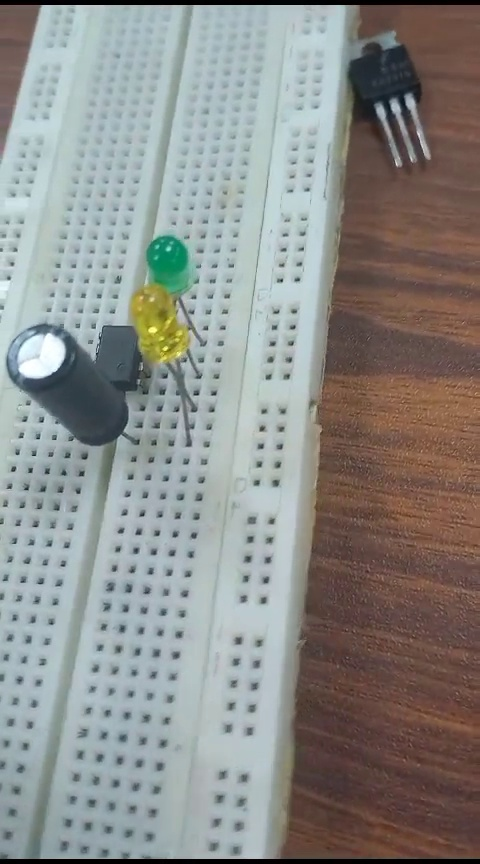IC: (94, 313, 139, 403)
LED: (124, 287, 202, 435), (140, 231, 207, 315)
capacitor: (6, 316, 111, 465)
voltage regulator: (332, 32, 446, 172)
